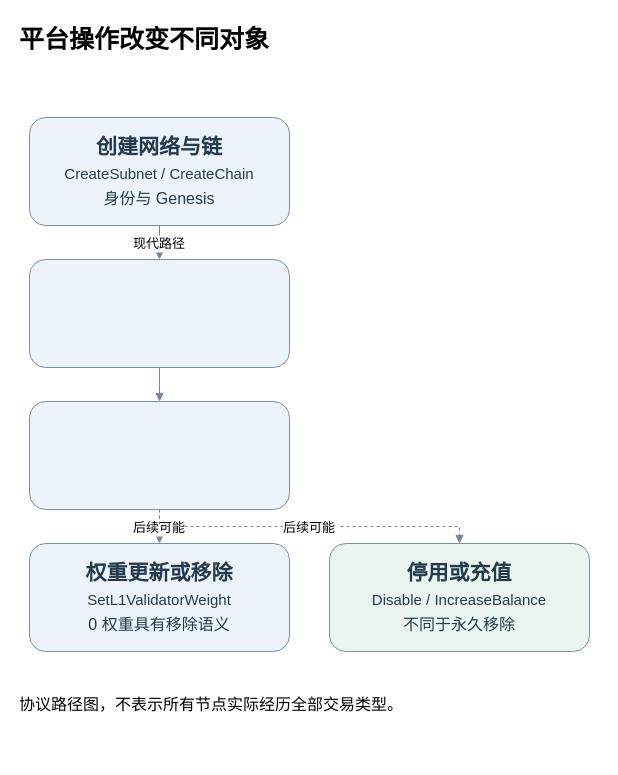
Some shapes in this 618 by 775 pixel diagram are drawn without their labels. Each missing label, with the box of its shape:
后续注册 RegisterL1Validator 认证消息与费用余额: (28, 400, 290, 510)
转换管理机制 ConvertSubnetToL1 初始集合与管理位置: (28, 258, 290, 368)
